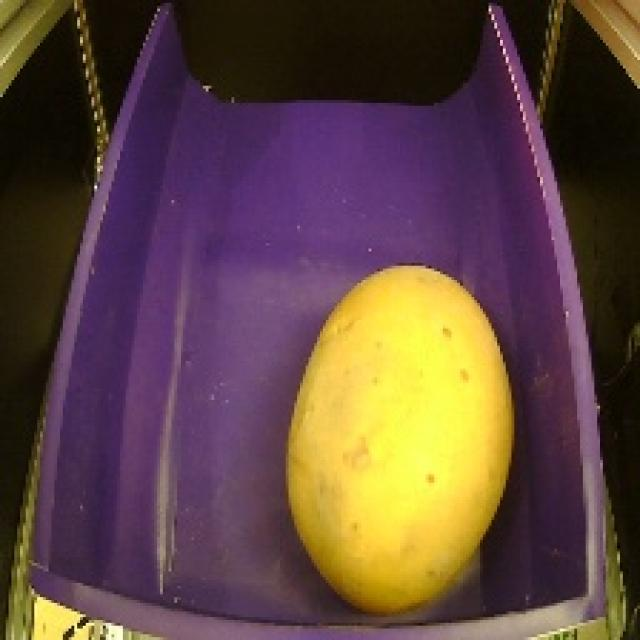full_potato: (276, 251, 526, 625)
